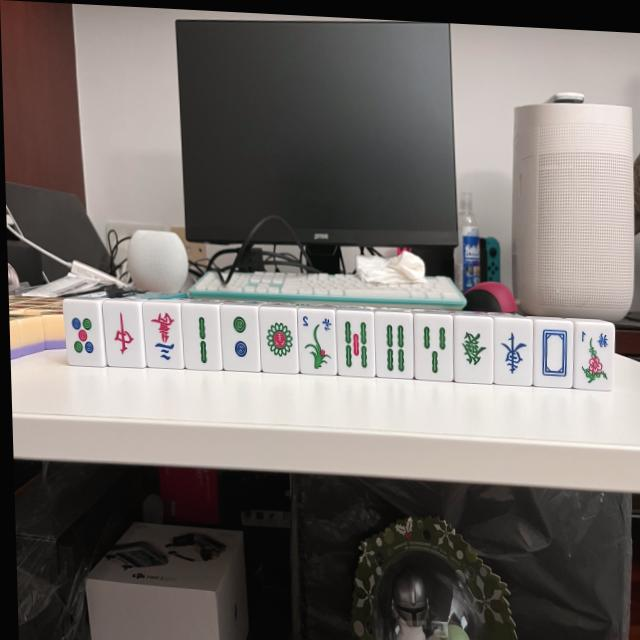1D: (258, 308, 297, 373)
1F: (570, 320, 614, 391)
2B: (180, 303, 222, 370)
2D: (218, 306, 259, 371)
2F: (296, 308, 336, 373)
3B: (414, 315, 454, 379)
3C: (141, 302, 184, 370)
4B: (375, 312, 414, 378)
5B: (337, 310, 375, 375)
5D: (63, 298, 106, 367)
EW: (492, 318, 533, 386)
GD: (452, 315, 494, 382)
RD: (100, 300, 145, 370)
WD: (531, 319, 574, 389)
